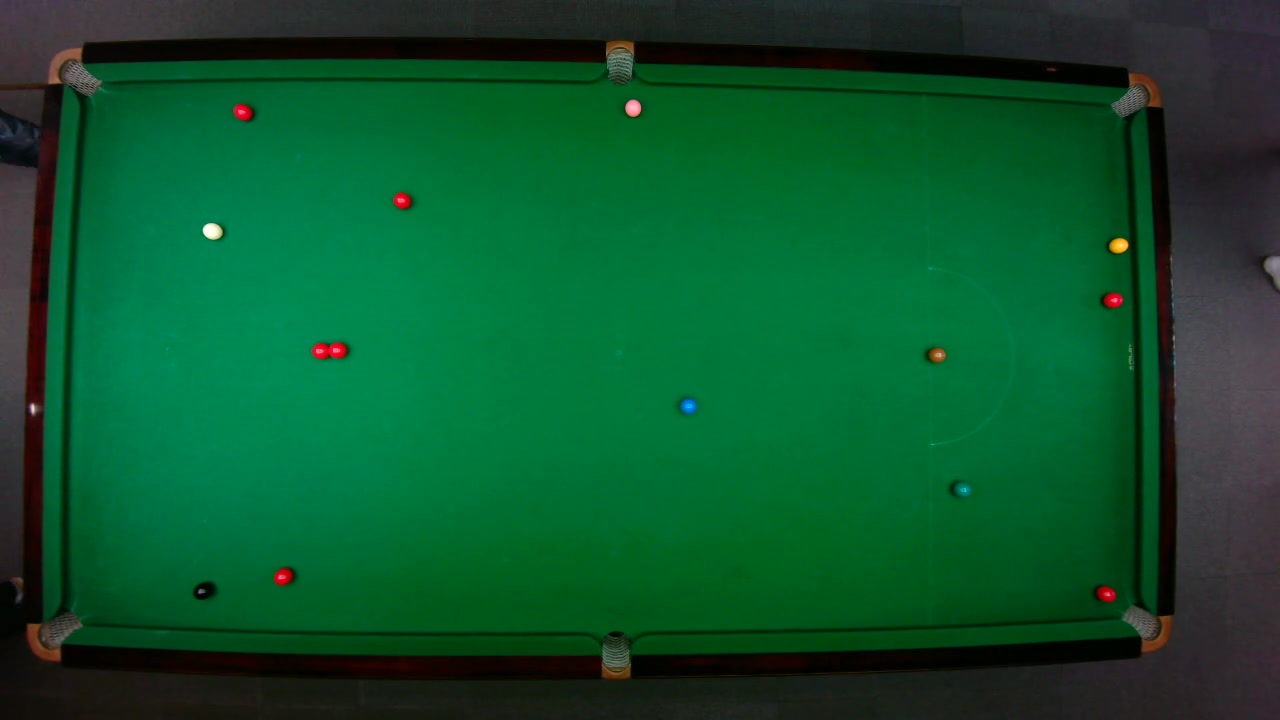bag: (25, 609, 84, 661), (45, 46, 102, 96), (1119, 603, 1172, 652), (1108, 71, 1161, 118), (600, 629, 630, 680), (605, 38, 633, 85)
black: (192, 581, 213, 600)
blue: (679, 396, 697, 414)
brown: (926, 346, 946, 362)
green: (951, 480, 972, 497)
pink: (623, 97, 642, 117)
red: (272, 566, 294, 586), (324, 340, 347, 359), (232, 102, 253, 121), (1094, 584, 1116, 602), (310, 341, 330, 360), (1101, 291, 1123, 308), (391, 191, 411, 209)
white: (201, 220, 223, 240)
yellow: (1107, 236, 1129, 253)
zone: (927, 265, 1014, 445)
